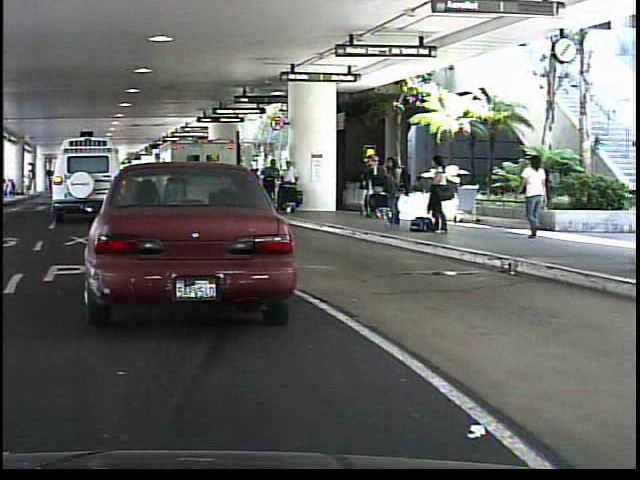person: (515, 154, 553, 241), (421, 152, 449, 235)
